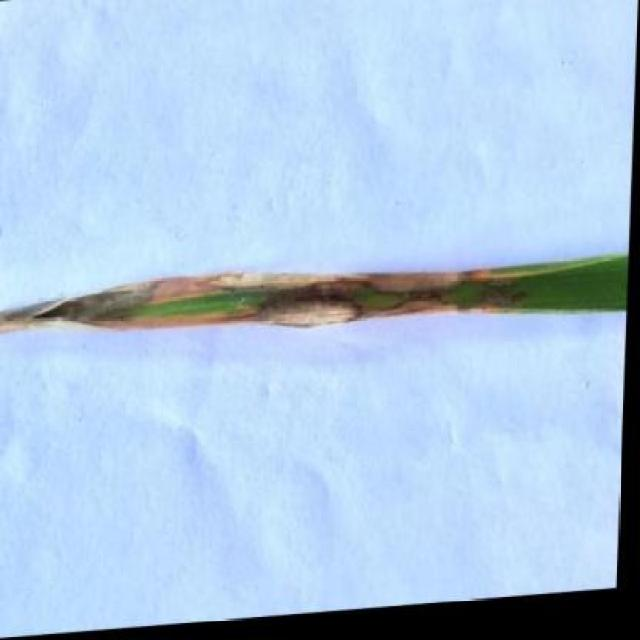Brown_Spot: (0, 243, 632, 374)
